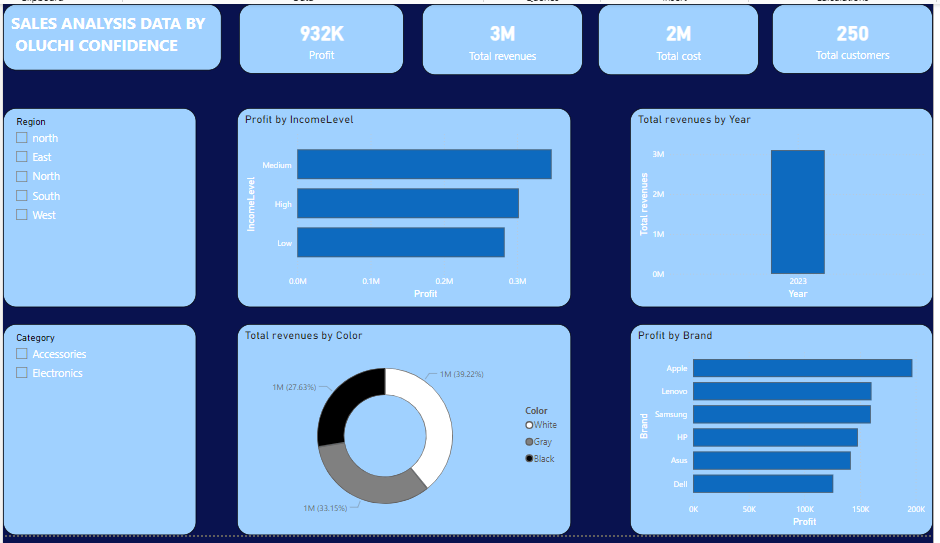

The dashboard page shown, as its layout file describes it:
{"tool":"powerbi","page":{"name":"Page 1","canvas":[1400,800],"ordinal":0},"visuals":[{"type":"card","fields":{"Values":["Customers.Total customers"]},"box":[1157.6,0,242.4,105.4],"z":0},{"type":"card","fields":{"Values":["Sales.Total cost"]},"box":[895.7,0,242.4,106.9],"z":1000},{"type":"card","fields":{"Values":["Sales.Total revenues"]},"box":[630.8,0,242.4,106.9],"z":2000},{"type":"card","fields":{"Values":["Sales.Profit"]},"box":[355.3,0,248.4,105.4],"z":3000},{"type":"barChart","fields":{"Category":["Products.Brand"],"Y":["Sales.Profit"]},"box":[943.9,481.7,456.1,317.6],"z":4000},{"type":"donutChart","fields":{"Category":["Products.Color"],"Y":["Sales.Total revenues"]},"box":[352.3,481.7,502.8,317.6],"z":5000},{"type":"clusteredColumnChart","fields":{"Y":["Sales.Total revenues"],"Category":["Sales.SaleDate.Variation.Date Hierarchy.Year"]},"box":[943.9,156.6,456.1,299.6],"z":6000},{"type":"barChart","fields":{"Category":["Customers.IncomeLevel"],"Y":["Sales.Profit"]},"box":[352.3,156.6,502.8,299.6],"z":7000},{"type":"slicer","fields":{"Values":["Customers.Region"]},"box":[0,156.6,290.5,299.6],"z":8000},{"type":"slicer","fields":{"Values":["Products.Category"]},"box":[0,481.7,290.5,317.6],"z":9000},{"type":"textbox","box":[0,0,329.3,100],"z":10000}]}

Visuals, with their boxes in screenshot pixels (x1, y1, x2, y2), scaled from the page's 1400x800 canvas onto the 940x543 screenshot:
card - Customers.Total customers: l=777, t=0, r=939, b=72
card - Sales.Total cost: l=601, t=0, r=764, b=73
card - Sales.Total revenues: l=424, t=0, r=586, b=73
card - Sales.Profit: l=239, t=0, r=405, b=72
barChart - Products.Brand x Sales.Profit: l=634, t=327, r=939, b=542
donutChart - Products.Color x Sales.Total revenues: l=237, t=327, r=574, b=542
clusteredColumnChart - Sales.Total revenues x Sales.SaleDate.Variation.Date Hierarchy.Year: l=634, t=106, r=939, b=310
barChart - Customers.IncomeLevel x Sales.Profit: l=237, t=106, r=574, b=310
slicer - Customers.Region: l=0, t=106, r=195, b=310
slicer - Products.Category: l=0, t=327, r=195, b=542
textbox: l=0, t=0, r=221, b=68
